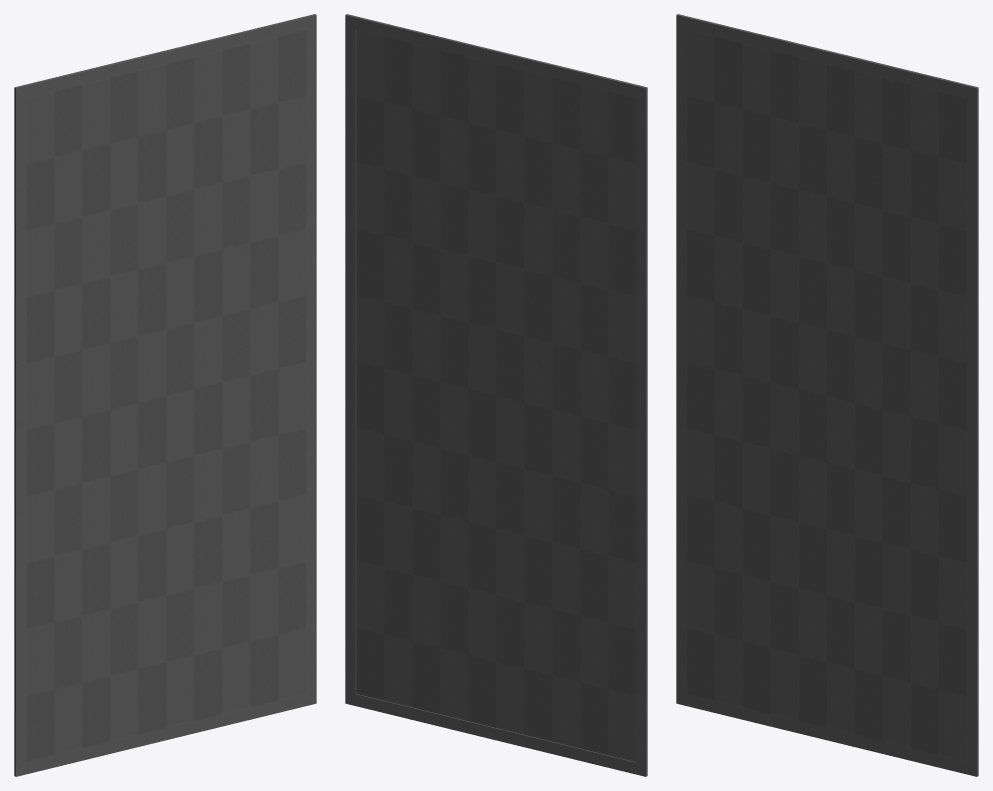
File: SM_Inside_Door_01.glb
3 renders of one model, left to right at view 1: azimuth 30°, elevation 25°; view 2: azimuth 150°, elevation 25°; view 3: azimuth 330°, elevation 25°, orthographic.
Parts seen in each view (by area): view 1: SM_Inside_Door_01; view 2: SM_Inside_Door_01; view 3: SM_Inside_Door_01.
Boxes of the visible parts, x1,y1,x2,y2 form: SM_Inside_Door_01: (14,14,316,776); SM_Inside_Door_01: (345,14,647,776); SM_Inside_Door_01: (676,14,978,776).
Bounding box in the file's own units: 107 × 235 × 0.9064.
1 material, 1 textured.
